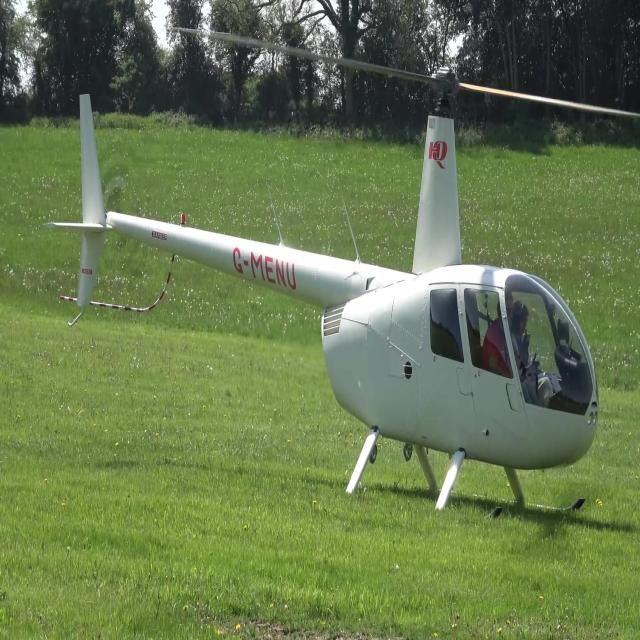CIV_HELO: (39, 67, 601, 540)
